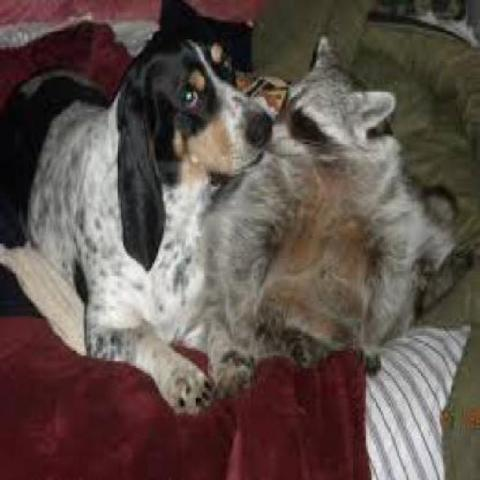small_animal: (0, 40, 273, 416), (205, 36, 448, 370)
